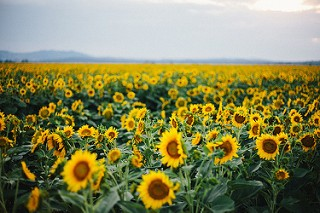flower: (59, 148, 107, 194), (136, 169, 180, 210), (154, 127, 188, 169), (210, 134, 241, 166), (255, 132, 283, 161), (231, 110, 249, 128)
